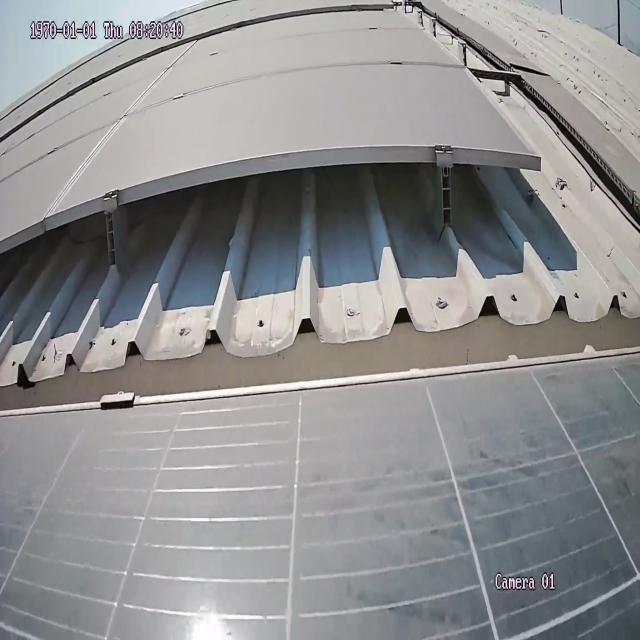interior panel: (39, 57, 186, 205)
outher panel: (0, 5, 640, 413)
